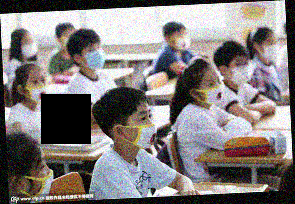with_mask: (28, 155, 55, 201), (132, 108, 158, 151), (27, 74, 51, 106), (203, 76, 227, 107), (231, 58, 255, 87), (84, 42, 107, 72), (20, 36, 39, 60), (262, 38, 281, 61), (174, 30, 192, 53)
